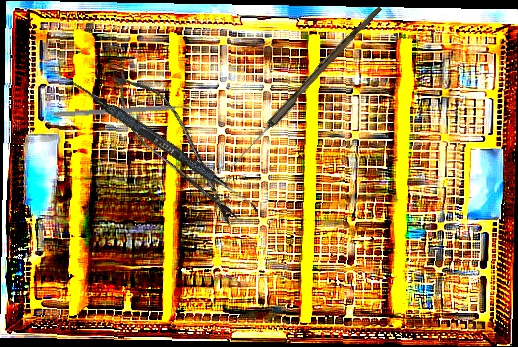Micro Scissor: (97, 58, 255, 238)
Spatula Surgical: (66, 78, 264, 213), (53, 102, 197, 123)
Surgical Spoon: (228, 2, 382, 172)
